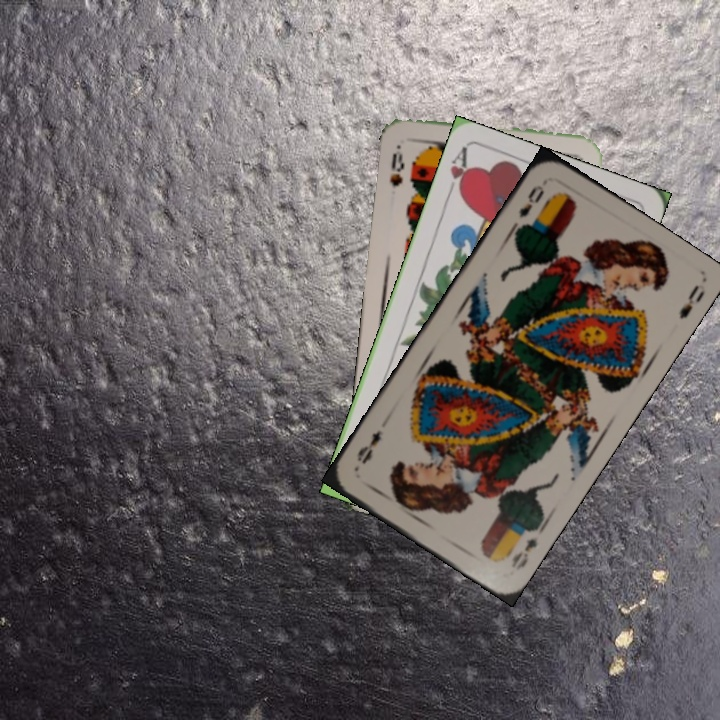EO: (503, 522, 546, 573), (514, 180, 547, 221)
HA: (441, 144, 473, 202)
S8: (386, 140, 407, 189)
